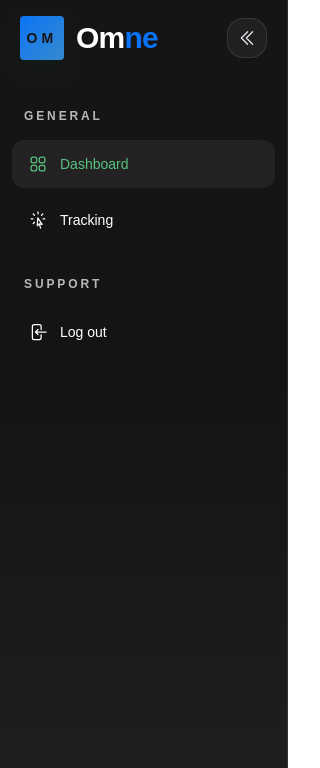
Test: SideNav › expands again after a second toggle
The width and height of the screenshot is (320, 768).
Click the button named "collapse sidebar". click: (247,38)
box: [227, 18, 267, 58]
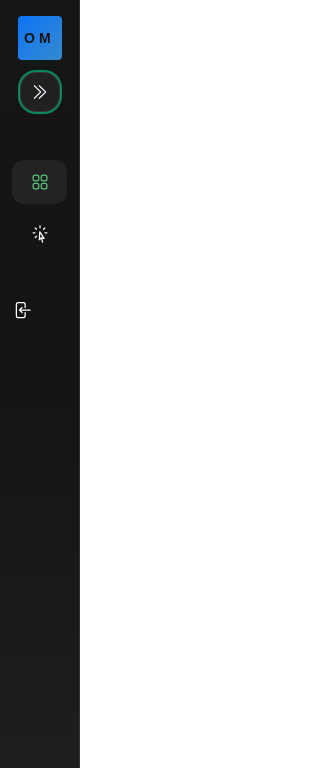
Click the button named "expand sidebar". click: (40,92)
box: [20, 72, 60, 112]
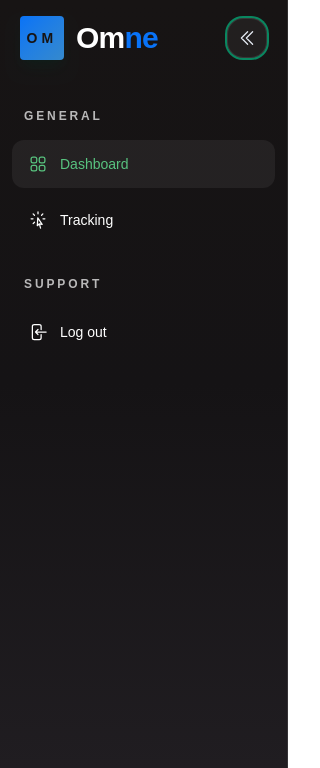
Check: the button named "collapse sidebar" is shown, box [227, 18, 267, 58]
Check: the text "Dashboard" is shown, box [60, 154, 128, 174]
Check: the text "Tracking" is shown, box [60, 210, 113, 230]
